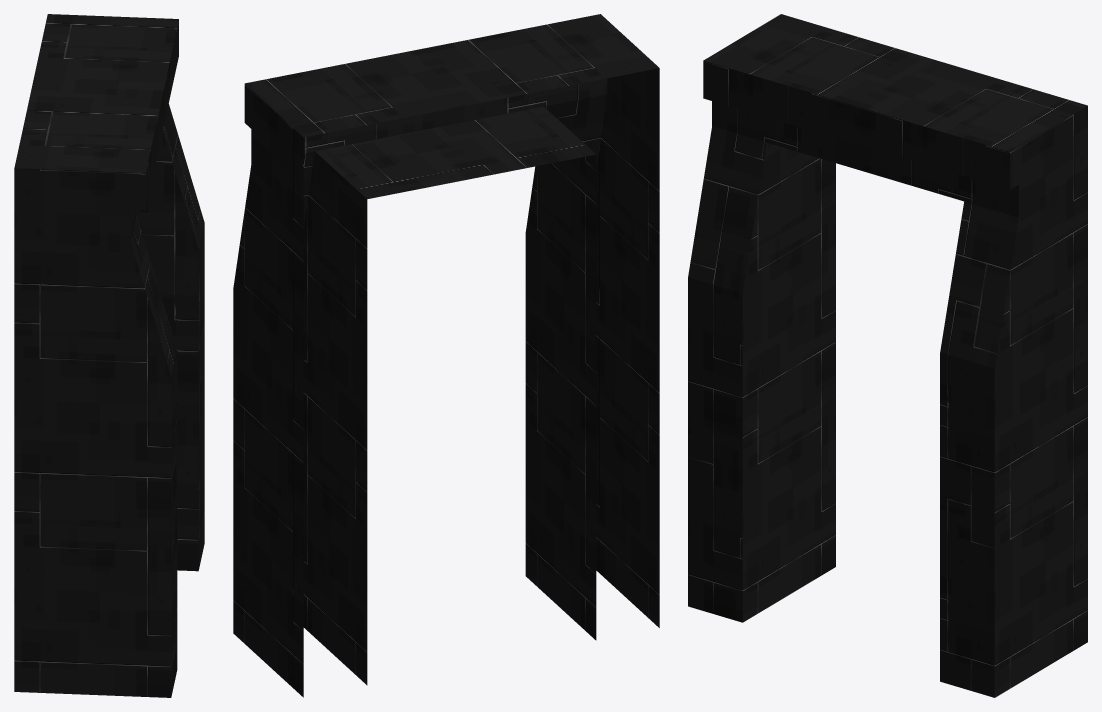
Rendered from PortePont.FBX.
3 views of the same model, side by side, from view 1: azimuth 30°, elevation 25°; view 2: azimuth 150°, elevation 25°; view 3: azimuth 270°, elevation 25° (orthographic). The views are drawn at different scales.
Parts seen in each view (by area): view 1: Porte_001; view 2: Porte_001; view 3: Porte_001.
Part boxes in pixels (x1=…): Porte_001: x1=14, y1=14, x2=204, y2=697; Porte_001: x1=233, y1=14, x2=659, y2=697; Porte_001: x1=688, y1=14, x2=1087, y2=697.
Bounding box in the file's own units: 358 × 608 × 411.
